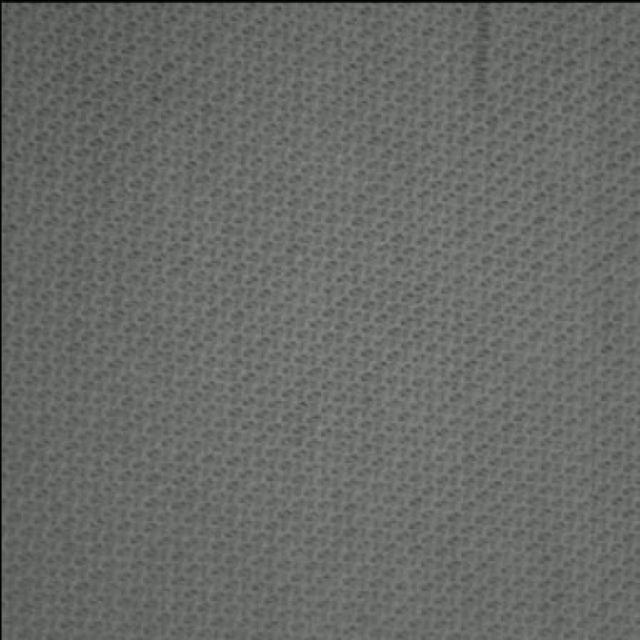Line: (469, 1, 491, 117)
